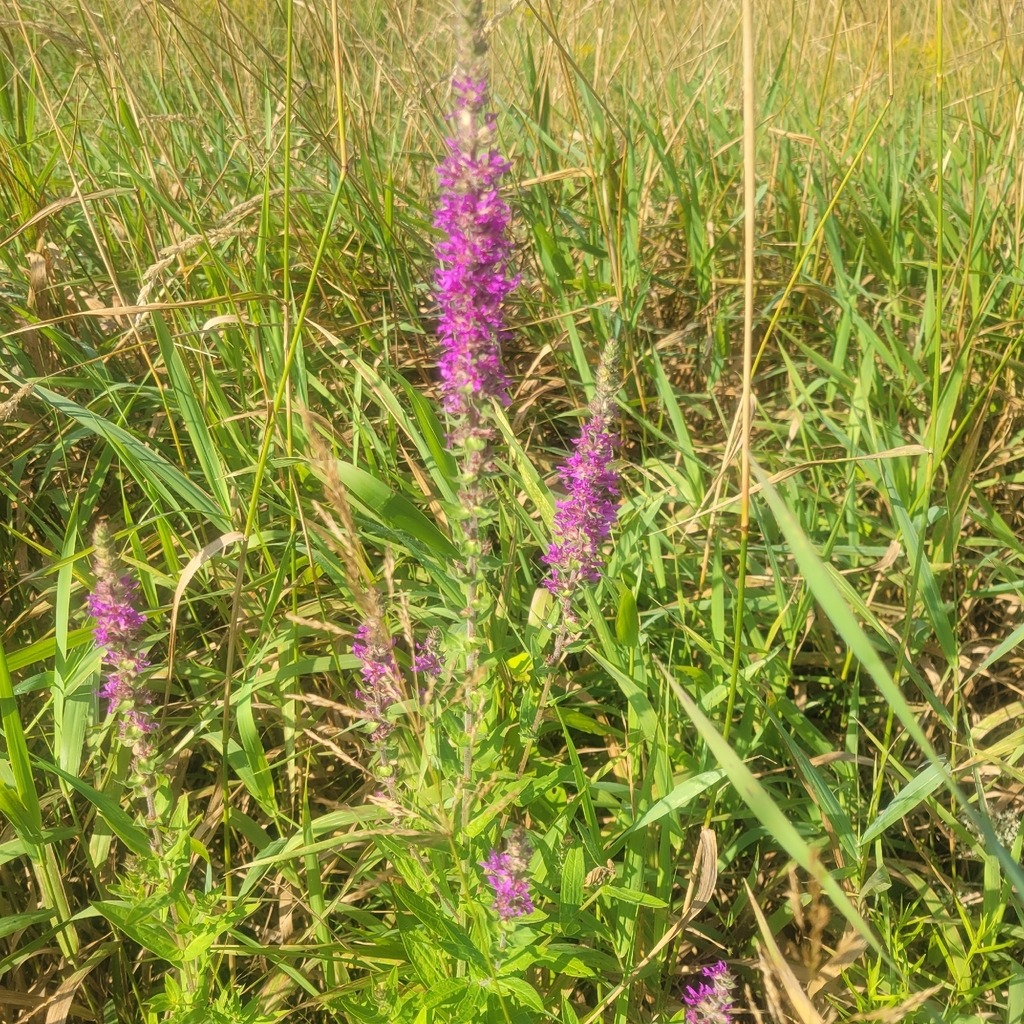purple loosestrife: (428, 64, 628, 664), (80, 520, 162, 764)
